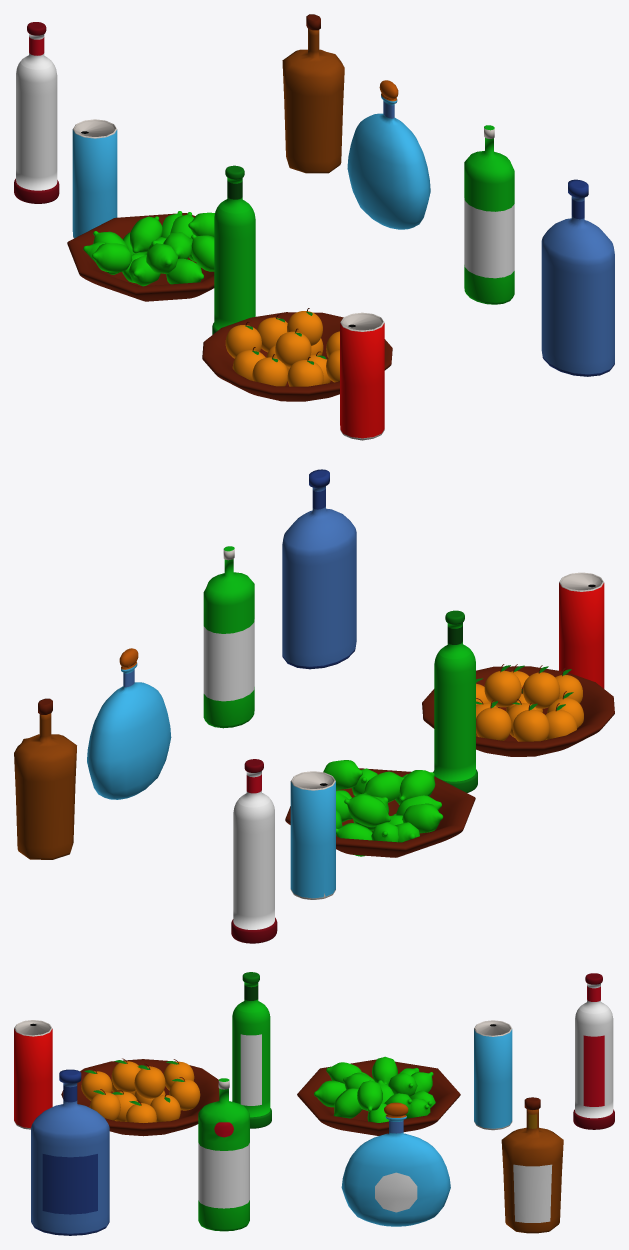
The model's file is Ingredients.fbx.
3 views of the same model, one above another, from view 1: azimuth 30°, elevation 25°; view 2: azimuth 150°, elevation 25°; view 3: azimuth 270°, elevation 25° (orthographic). The views are drawn at different scales.
Visible parts, largest first — view 1: Cylinder, Lime Bowl, Orange Bowl, Cylinder.002, Cylinder.001, Cylinder.003, Simple Syrup, Vermouth, Cola Can, Soda Water; view 2: Cylinder, Orange Bowl, Lime Bowl, Cylinder.002, Cylinder.001, Cylinder.003, Simple Syrup, Vermouth, Soda Water, Cola Can; view 3: Cylinder, Lime Bowl, Cylinder.002, Orange Bowl, Cylinder.001, Cylinder.003, Simple Syrup, Vermouth, Soda Water, Cola Can.
Boxes of the visible parts, x1,y1,x2,y2 form: Cylinder: (541, 179, 614, 376); Lime Bowl: (67, 211, 214, 301); Orange Bowl: (202, 308, 392, 401); Cylinder.002: (347, 80, 430, 229); Cylinder.001: (464, 125, 514, 304); Cylinder.003: (282, 14, 344, 173); Simple Syrup: (14, 22, 59, 203); Vermouth: (212, 165, 255, 334); Cola Can: (340, 312, 384, 440); Soda Water: (72, 119, 117, 238); Cylinder: (282, 469, 356, 669); Orange Bowl: (422, 664, 614, 756); Lime Bowl: (285, 760, 475, 857); Cylinder.002: (87, 648, 171, 799); Cylinder.001: (203, 546, 254, 728); Cylinder.003: (14, 698, 76, 859); Simple Syrup: (231, 759, 277, 943); Vermouth: (433, 610, 477, 792); Soda Water: (290, 771, 335, 899); Cola Can: (559, 572, 604, 688); Cylinder: (31, 1069, 109, 1235); Lime Bowl: (297, 1056, 460, 1135); Cylinder.002: (341, 1102, 450, 1226); Orange Bowl: (61, 1058, 219, 1136); Cylinder.001: (198, 1078, 249, 1231); Cylinder.003: (501, 1097, 563, 1233); Simple Syrup: (573, 973, 614, 1129); Vermouth: (232, 972, 271, 1128); Soda Water: (474, 1020, 512, 1130); Cola Can: (14, 1020, 52, 1129).
Bounding box in the file's own units: 288 × 137 × 495.
